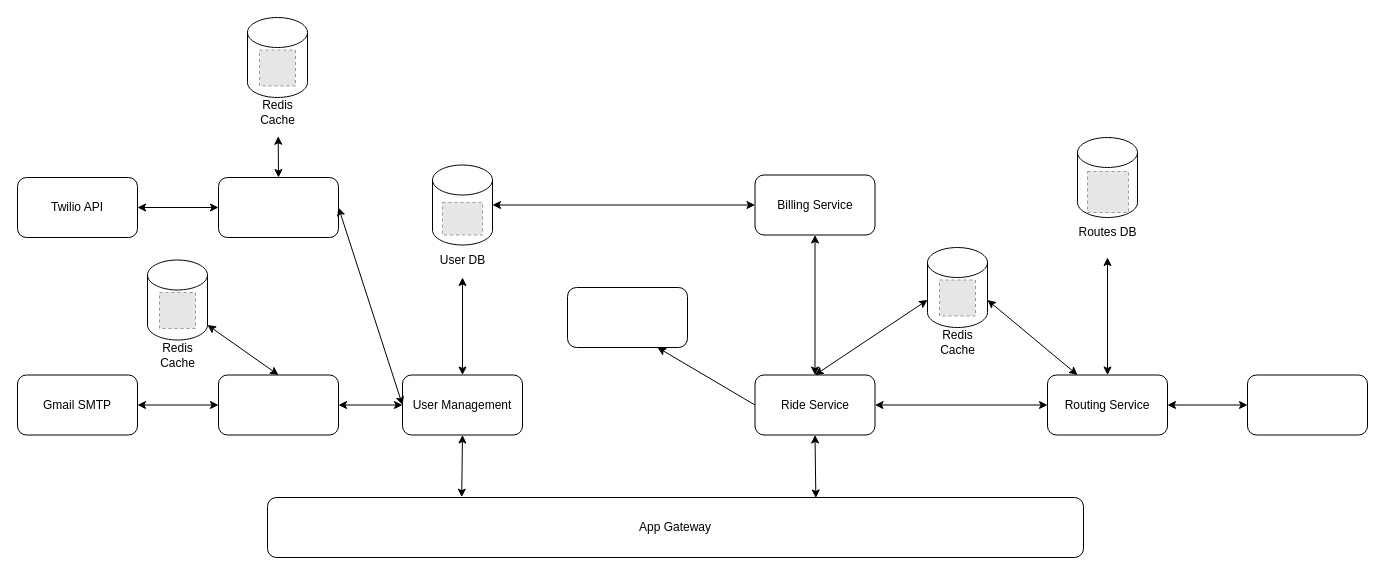
Some shapes in this 1385 by 575 pixel diagram are drawn without their labels. Grey dashed boxes stand in for pictures. Each missing label, with the box of its shape:
Email Validation: (218, 374, 338, 435)
Google Maps Api: (1246, 374, 1368, 435)
Push Notification: (566, 286, 688, 348)
SMS Service: (218, 176, 338, 238)
